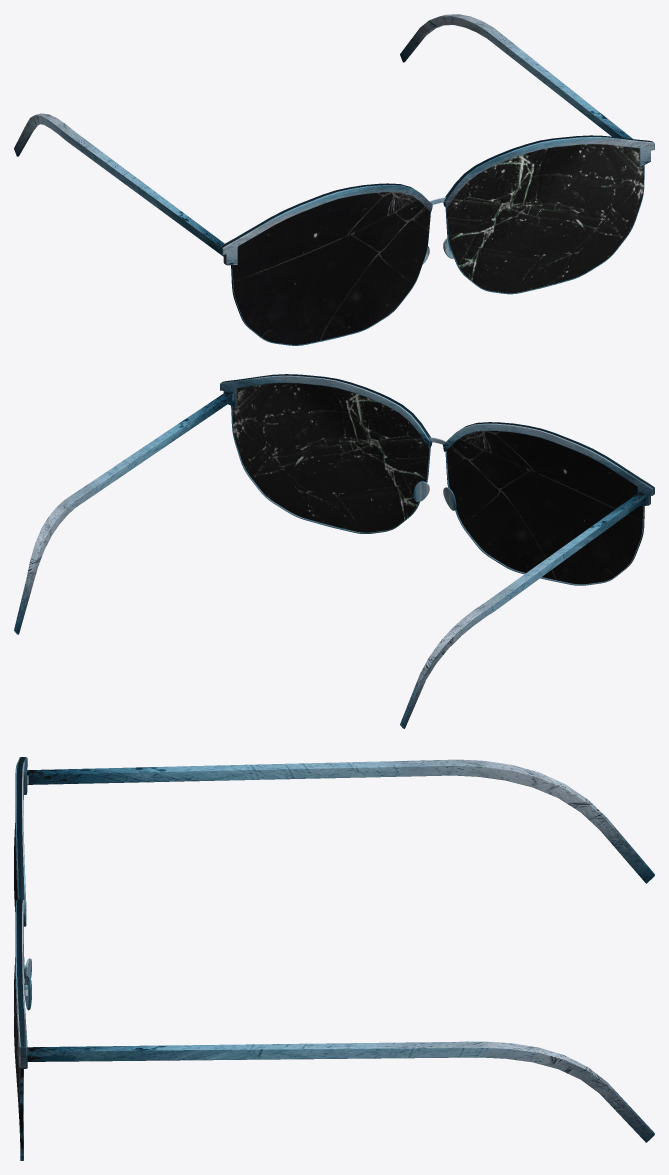
File: glasses (16).glb
3 renders of one model, top to bottom at view 1: azimuth 30°, elevation 25°; view 2: azimuth 150°, elevation 25°; view 3: azimuth 270°, elevation 25°, orthographic. The views are drawn at different scales.
Visible parts, largest first — view 1: pCube6, pCube10, pCube8, pCube5, pCube4, pCube9, pCylinder13, pCylinder8; view 2: pCube10, pCube6, pCube5, pCube8, pCube9, pCube4, pCylinder13, pCylinder8; view 3: pCube5, pCube8, pCube9, pCube4.
Part boxes in pixels (x1,y1,x2,y2): pCube6: (232, 192, 429, 344); pCube10: (447, 144, 644, 293); pCube8: (400, 14, 632, 138); pCube5: (14, 113, 224, 256); pCube4: (220, 183, 432, 265); pCube9: (443, 135, 654, 207); pCylinder13: (445, 165, 644, 294); pCylinder8: (231, 211, 430, 345); pCube10: (232, 382, 428, 532); pCube6: (446, 430, 642, 584); pCube5: (400, 492, 645, 728); pCube8: (14, 391, 232, 634); pCube9: (220, 374, 432, 447); pCube4: (443, 422, 654, 505); pCylinder13: (231, 406, 430, 533); pCylinder8: (445, 451, 644, 585); pCube5: (27, 759, 654, 883); pCube8: (27, 1041, 654, 1142); pCube9: (15, 899, 27, 1068); pCube4: (15, 757, 27, 914).
Size of the model in its own units: 10.36 by 3.38 by 9.66.
Materials: 3 (3 with a texture image).
